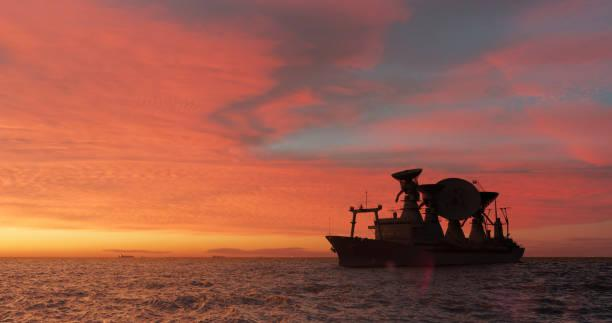MIL_Ship: (326, 161, 526, 270)
